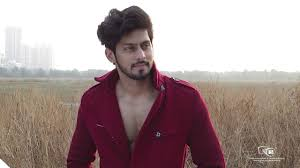Indian_Male: (104, 24, 159, 76)
